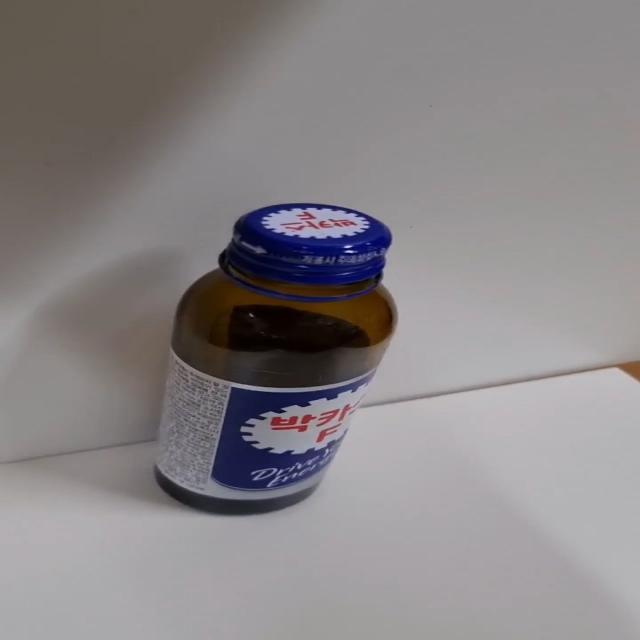Glass: (152, 202, 398, 518)
